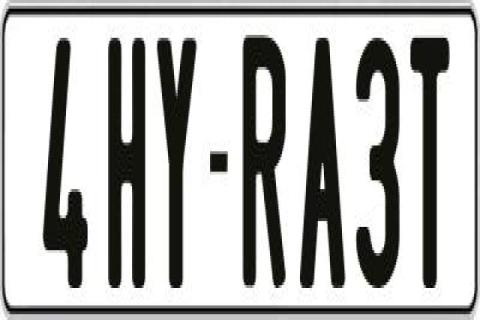0: (42, 32, 92, 282), (354, 35, 398, 297)
A: (299, 38, 345, 306)
H: (108, 29, 148, 291)
R: (241, 29, 288, 285)
T: (408, 32, 450, 296)
Y: (156, 38, 196, 306)
